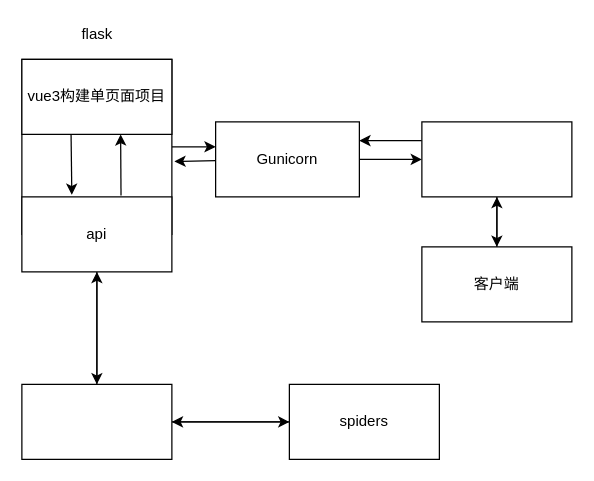
This 594x481 diagram has some shape labels left out. Each missing label, with the centre of its shape:
msyql: the point at 96,421
nginx: the point at 496,159
